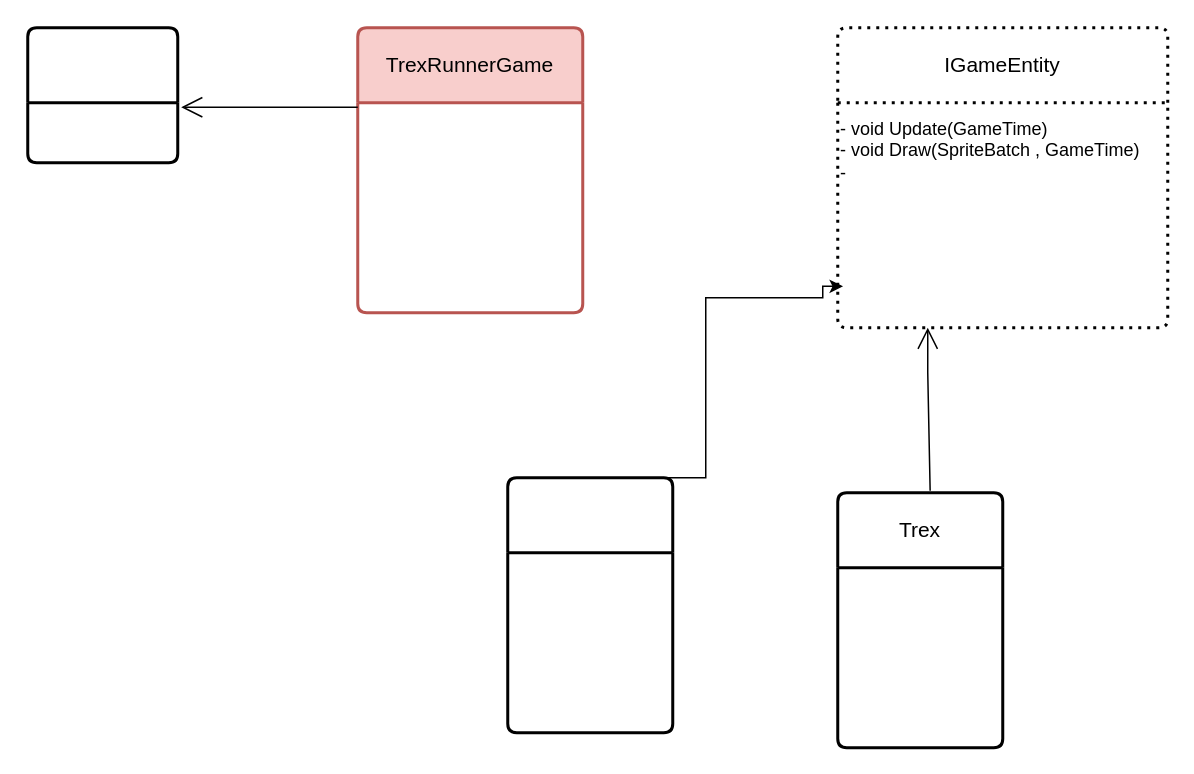
The diagram is 1194 pixels wide and 774 high, and some of its shapes have lost their labels. Each missing label, with the centre of its shape:
Game: point (102, 95)
ScoreBoard: point (590, 605)
